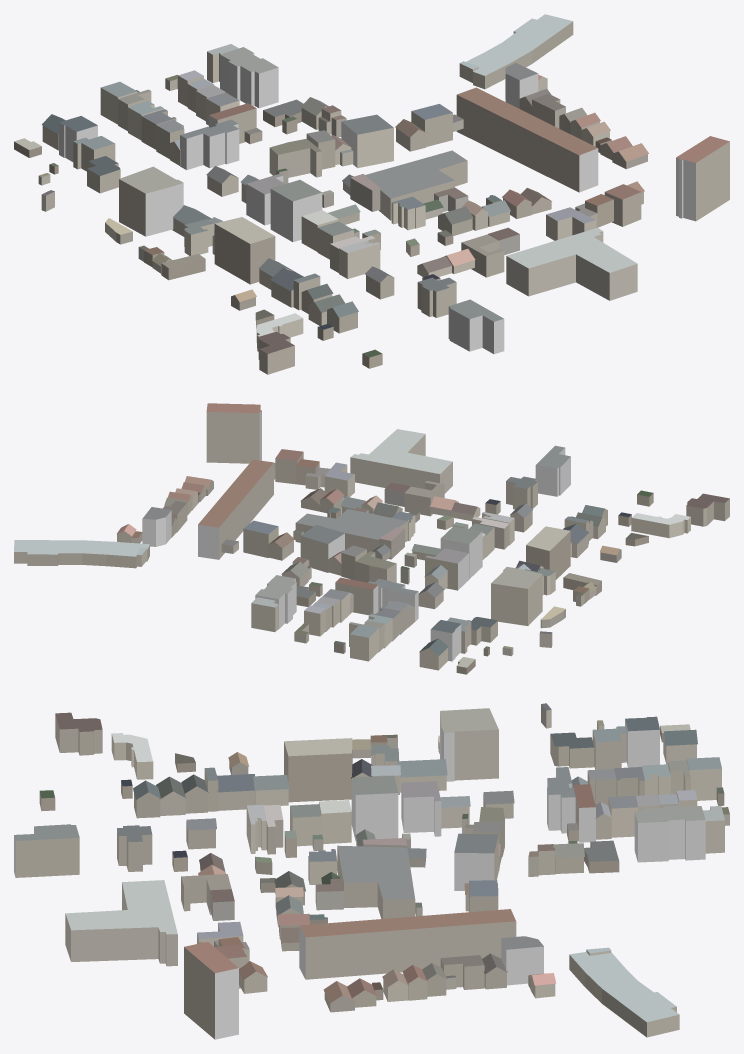
The picture shows the model from 3 angles, top to bottom: view 1: azimuth 30°, elevation 25°; view 2: azimuth 150°, elevation 25°; view 3: azimuth 270°, elevation 25°; orthographic projection. The views are drawn at different scales.
Visible parts, largest first — view 1: tuile; view 2: tuile; view 3: tuile.
Boxes of the visible parts, x1=… form: tuile: x1=14, y1=14, x2=729, y2=374; tuile: x1=14, y1=403, x2=729, y2=674; tuile: x1=14, y1=703, x2=729, y2=1039.
Bounding box in the file's own units: 279 × 33.27 × 264.
